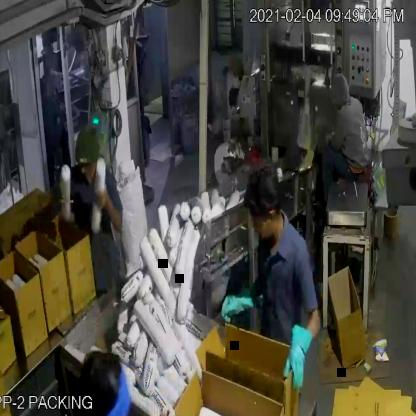glove: (286, 321, 318, 390), (210, 291, 263, 331)
no_glove: (90, 181, 127, 242)
